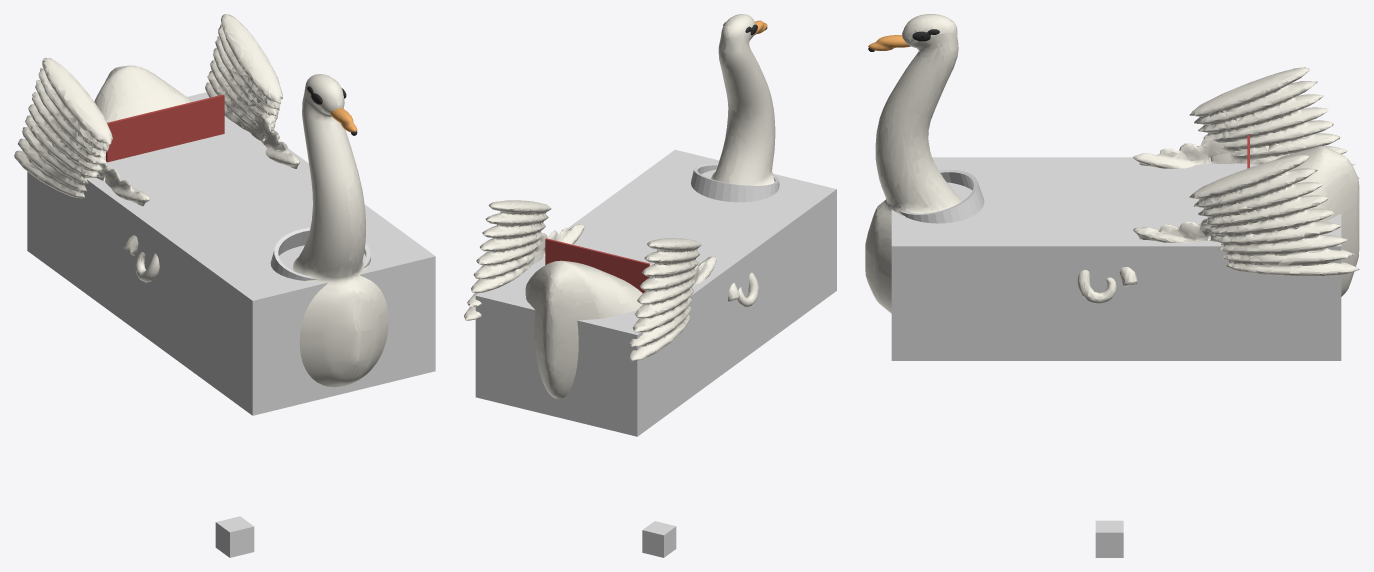
File: ZZ_zwaan.fbx
The picture shows the model from 3 angles, left to right: view 1: azimuth 30°, elevation 25°; view 2: azimuth 150°, elevation 25°; view 3: azimuth 270°, elevation 25°; orthographic projection. The views are drawn at different scales.
Parts seen in each view (by area): view 1: COLL_0, static__MAT_zwaan_0, static__MAT_zwaan_1, static__MAT_kuip_0, static__MAT_anker_0, static__TEX_sjerp_0; view 2: COLL_0, static__MAT_zwaan_0, static__MAT_zwaan_1, static__MAT_kuip_0, static__TEX_sjerp_0, static__MAT_anker_0; view 3: COLL_0, static__MAT_zwaan_1, static__MAT_zwaan_0, static__TEX_sjerp_0, static__MAT_anker_0.
Part boxes in pixels (x1,y1,x2,y2): COLL_0: (27,92,435,415); static__MAT_zwaan_0: (15,14,388,387); static__MAT_zwaan_1: (14,14,388,385); static__MAT_kuip_0: (106,94,224,162); static__MAT_anker_0: (215,516,254,557); static__TEX_sjerp_0: (270,227,370,280); COLL_0: (475,149,836,436); static__MAT_zwaan_0: (464,14,775,399); static__MAT_zwaan_1: (464,14,744,398); static__MAT_kuip_0: (545,238,649,293); static__TEX_sjerp_0: (691,163,779,202); static__MAT_anker_0: (642,521,676,557); COLL_0: (891,157,1341,360); static__MAT_zwaan_1: (865,15,1359,306); static__MAT_zwaan_0: (865,14,1359,313); static__TEX_sjerp_0: (898,169,984,223); static__MAT_anker_0: (1095,520,1123,557).
Size of the model in its own units: 1.74 by 4.21 by 3.52.
